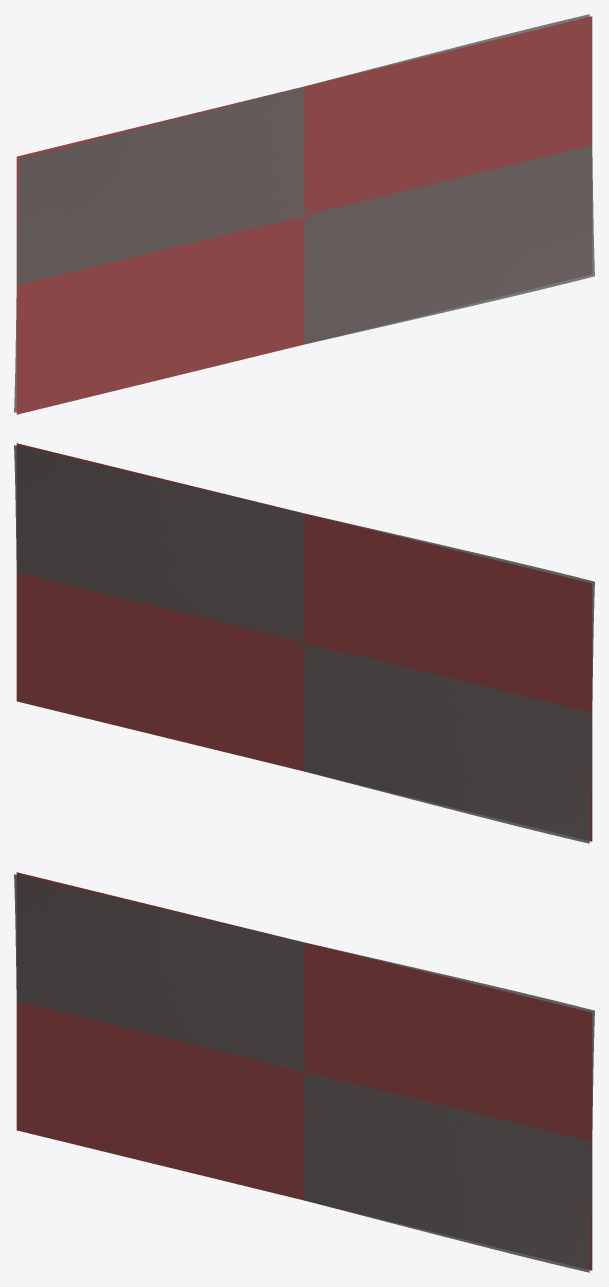
Rendered from warping-box-80-160-10-10-995.glb.
3 views of the same model, one above another, from view 1: azimuth 30°, elevation 25°; view 2: azimuth 150°, elevation 25°; view 3: azimuth 330°, elevation 25° (orthographic).
Visible parts, largest first — view 1: undeformed cross-section, cross-section with warping; view 2: undeformed cross-section, cross-section with warping; view 3: undeformed cross-section, cross-section with warping.
Part boxes in pixels (x1,y1,x2,y2): undeformed cross-section: (16,16,592,414); cross-section with warping: (14,14,594,412); undeformed cross-section: (16,443,592,841); cross-section with warping: (14,445,594,843); undeformed cross-section: (16,872,592,1270); cross-section with warping: (14,874,594,1272).
Size of the model in its own units: 0.14 by 0.06 by 0.00249.
